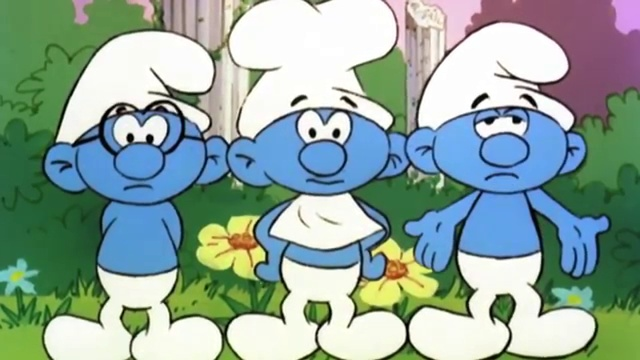smurf: (402, 19, 610, 360), (227, 1, 408, 360), (39, 30, 227, 360)
